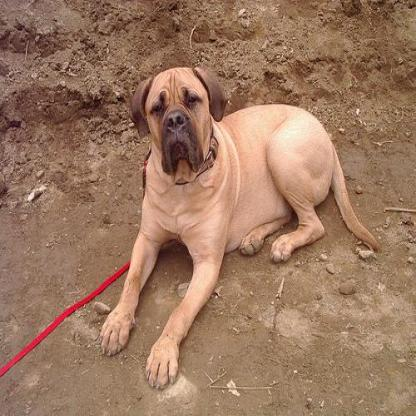bull_mastiff: (97, 64, 380, 390)
